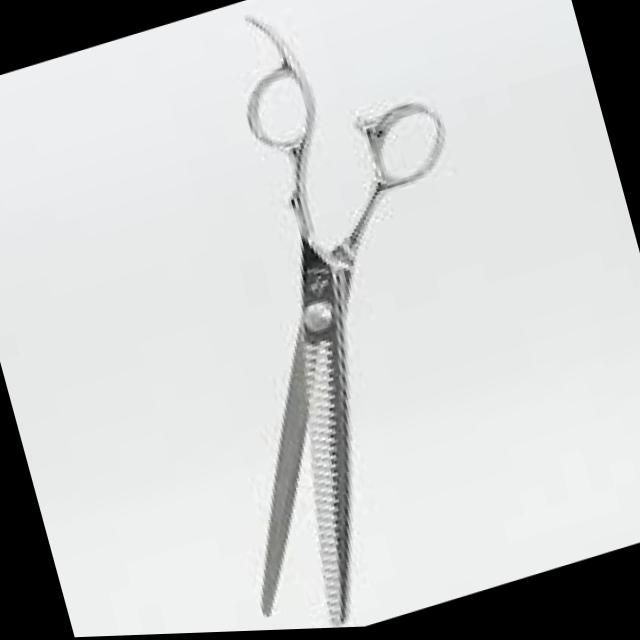scissor: (109, 0, 561, 637)
